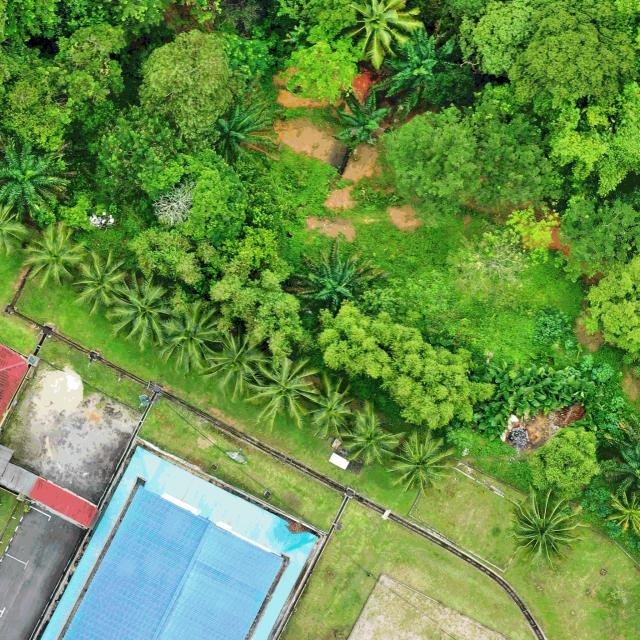0: (366, 22, 463, 122), (0, 129, 80, 221), (294, 236, 382, 312), (336, 0, 423, 72), (508, 488, 588, 566), (244, 353, 317, 434), (104, 273, 176, 349), (211, 91, 282, 168), (200, 328, 268, 403), (388, 427, 458, 496), (158, 304, 224, 374), (336, 402, 402, 468), (22, 224, 86, 290), (332, 86, 394, 151), (72, 249, 130, 313), (306, 374, 358, 438), (604, 485, 640, 537), (0, 200, 29, 255)
tree: (138, 28, 240, 146), (138, 149, 254, 245), (386, 104, 482, 212), (379, 340, 495, 426), (476, 110, 564, 209), (316, 302, 424, 380), (208, 272, 307, 352), (277, 25, 367, 106), (577, 254, 640, 350), (127, 229, 217, 290), (536, 422, 602, 496)
